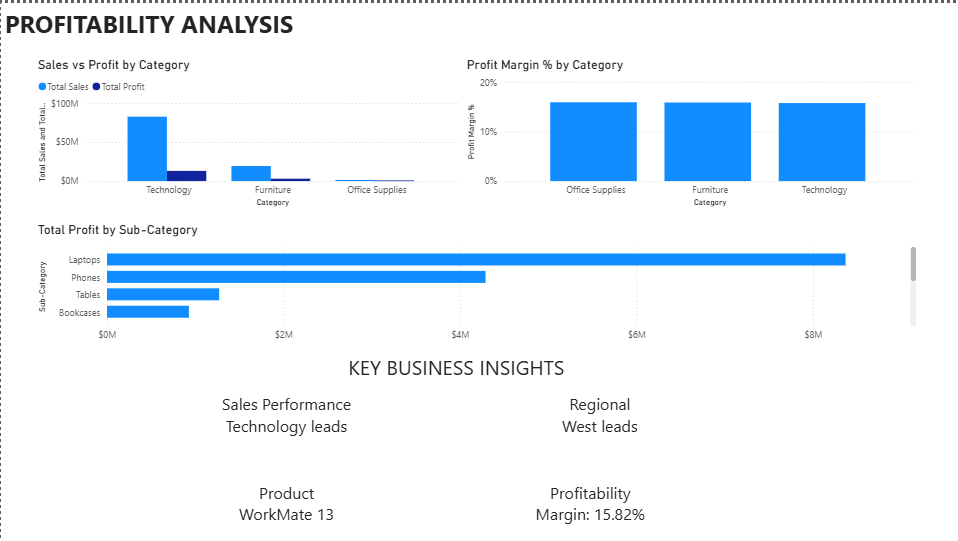

Layout of this report page (visuals, bound fields, positions):
{"tool":"powerbi","page":{"name":"Profitability Analysis","canvas":[1280,720],"ordinal":1},"visuals":[{"type":"clusteredBarChart","fields":{"Category":["Sales.Sub-Category"],"Y":["Sales.Total Profit"]},"box":[43.5,292.9,1181.1,168.2],"z":0},{"type":"clusteredColumnChart","title":"Sales vs Profit by Category","fields":{"Category":["Sales.Category"],"Y":["Sales.Total Sales","Sales.Total Profit"]},"box":[43.5,71.8,572.6,204.1],"z":1000},{"type":"clusteredColumnChart","fields":{"Category":["Sales.Category"],"Y":["Sales.Profit Margin %"]},"box":[616.1,71.8,608.5,204.1],"z":2000},{"type":"textbox","box":[0,0,1279.4,71.8],"z":3000},{"type":"textbox","box":[457.3,461.1,308,52.9],"z":4000},{"type":"textbox","box":[204.1,514,353.4,85],"z":4001},{"type":"textbox","box":[583.9,514,429,85],"z":4002},{"type":"textbox","box":[557.5,631.2,455.4,88.8],"z":4003},{"type":"textbox","box":[204.1,631.2,353.4,88.8],"z":4004}]}

Visuals, with their boxes in screenshot pixels (x1, y1, x2, y2), scaled from the page's 1280x720 canvas onto the 958x541 screenshot:
clusteredBarChart - Sales.Sub-Category x Sales.Total Profit: bbox=[33, 220, 917, 346]
"Sales vs Profit by Category" clusteredColumnChart: bbox=[33, 54, 461, 207]
clusteredColumnChart - Sales.Category x Sales.Profit Margin %: bbox=[461, 54, 917, 207]
textbox: bbox=[0, 0, 957, 54]
textbox: bbox=[342, 346, 573, 386]
textbox: bbox=[153, 386, 417, 450]
textbox: bbox=[437, 386, 758, 450]
textbox: bbox=[417, 474, 758, 540]
textbox: bbox=[153, 474, 417, 540]
